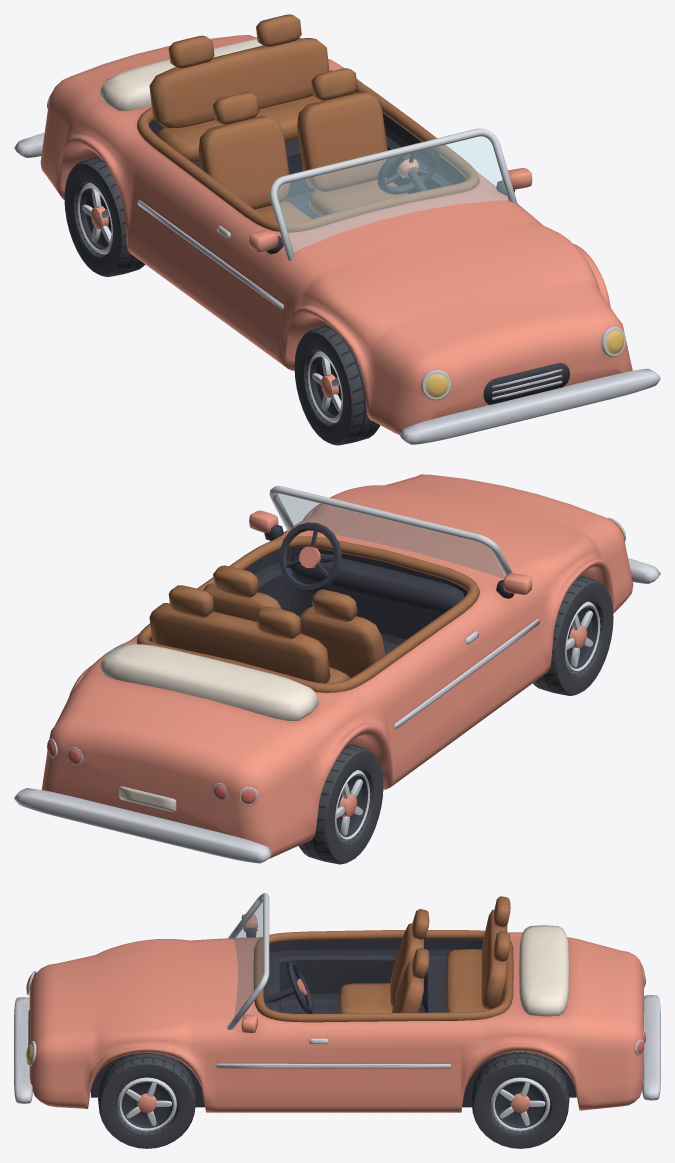
The model's file is convertible.glb.
The picture shows the model from 3 angles, top to bottom: view 1: azimuth 30°, elevation 25°; view 2: azimuth 150°, elevation 25°; view 3: azimuth 270°, elevation 25°; orthographic projection. The views are drawn at different scales.
Visible parts, largest first — view 1: convertible_body, convertible_windows, convertible_wheel_fr, convertible_wheel_rr, convertible_steering_wheel; view 2: convertible_body, convertible_wheel_rr, convertible_wheel_fr, convertible_windows, convertible_steering_wheel; view 3: convertible_body, convertible_wheel_rl, convertible_wheel_fl, convertible_windows, convertible_steering_wheel.
Boxes of the visible parts, x1,y1,x2,y2 form: convertible_body: (14,14,660,444); convertible_windows: (277,136,508,252); convertible_wheel_fr: (294,325,380,445); convertible_wheel_rr: (64,156,144,276); convertible_steering_wheel: (377,143,439,194); convertible_body: (14,474,660,863); convertible_wheel_rr: (299,743,383,864); convertible_wheel_fr: (533,575,613,695); convertible_windows: (277,494,504,578); convertible_steering_wheel: (279,522,341,592); convertible_body: (14,893,660,1112); convertible_wheel_rl: (471,1051,569,1148); convertible_wheel_fl: (98,1052,196,1148); convertible_windows: (233,899,262,1016); convertible_steering_wheel: (286,961,313,1013).
Bounding box in the file's own units: 1.76 × 1.33 × 4.35.
6 materials, 2 textured.
